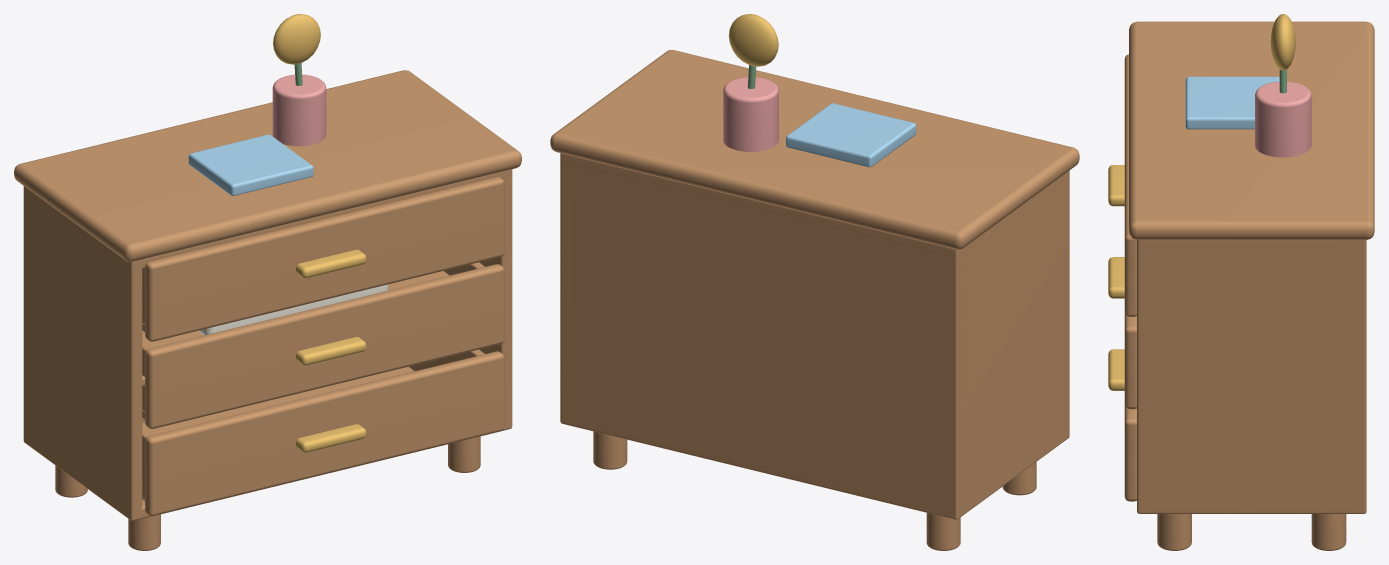
File: bedroomDresser.glb
3 renders of one model, left to right at view 1: azimuth 30°, elevation 25°; view 2: azimuth 150°, elevation 25°; view 3: azimuth 270°, elevation 25°, orthographic. The views are drawn at different scales.
Visible parts, largest first — view 1: Rounded cabinet top, Storage inner side, Drawer face.001, Drawer face, Drawer face.002, Bedside book, Small ceramic vase, Storage inner side.001, Little flower, Drawer tray floor, Storage inner floor.001, Stored folded linen (+7 smaller); view 2: Storage inner back, Rounded cabinet top, Storage inner side, Bedside book, Small ceramic vase, Storage inner floor.001, Storage inner floor, Storage inner side.001, Little flower, Furniture foot.001, Furniture foot.003, Furniture foot; view 3: Storage inner side.001, Rounded cabinet top, Bedside book, Small ceramic vase, Storage inner back, Drawer face.002, Storage inner floor.001, Furniture foot.003, Furniture foot.002, Drawer face, Drawer face.001, Little flower (+4 smaller).
Part boxes in pixels (x1,y1,x2,y2): Rounded cabinet top: [14, 70, 521, 261]; Storage inner side: [23, 186, 142, 520]; Drawer face.001: [145, 264, 504, 428]; Drawer face: [145, 351, 504, 516]; Drawer face.002: [145, 177, 504, 341]; Bedside book: [188, 134, 313, 195]; Small ceramic vase: [272, 74, 326, 146]; Storage inner side.001: [479, 169, 512, 429]; Little flower: [273, 14, 320, 64]; Drawer tray floor: [142, 366, 414, 500]; Storage inner floor.001: [90, 169, 512, 269]; Stored folded linen: [198, 284, 388, 335]; Storage inner back: [560, 153, 962, 519]; Rounded cabinet top: [550, 50, 1079, 249]; Storage inner side: [947, 170, 1069, 519]; Bedside book: [786, 103, 916, 167]; Small ceramic vase: [723, 77, 778, 151]; Storage inner floor.001: [561, 154, 977, 257]; Storage inner floor: [561, 414, 969, 519]; Storage inner side.001: [560, 153, 569, 423]; Little flower: [729, 14, 778, 66]; Furniture foot.001: [926, 513, 960, 550]; Furniture foot.003: [593, 431, 627, 469]; Furniture foot: [1002, 462, 1036, 495]; Storage inner side.001: [1137, 240, 1365, 513]; Rounded cabinet top: [1129, 21, 1374, 239]; Bedside book: [1185, 76, 1279, 129]; Small ceramic vase: [1255, 81, 1311, 157]; Storage inner back: [1355, 240, 1366, 513]; Drawer face.002: [1124, 54, 1136, 316]; Storage inner floor.001: [1137, 240, 1365, 248]; Furniture foot.003: [1311, 514, 1346, 550]; Furniture foot.002: [1157, 514, 1191, 550]; Drawer face: [1124, 405, 1136, 501]; Drawer face.001: [1124, 313, 1136, 409]; Little flower: [1270, 14, 1295, 70].
Size of the model in its own units: 1.54 by 1.64 by 0.8455.
